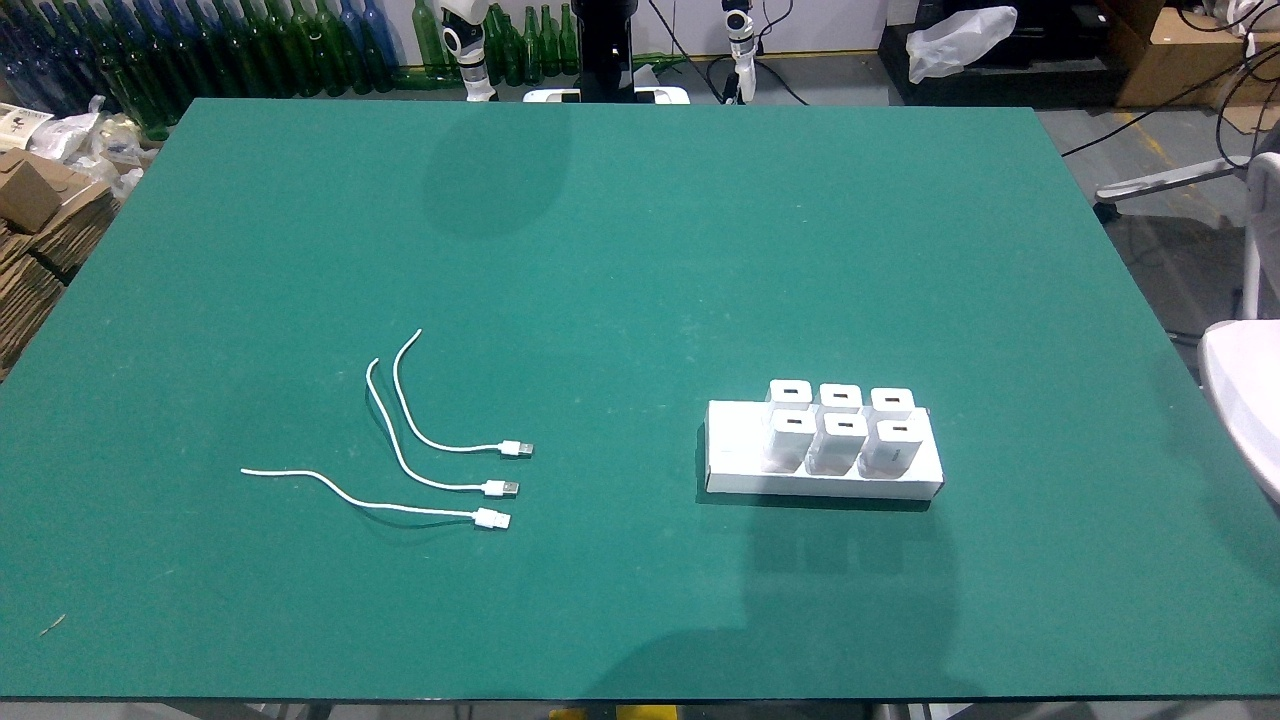usb_a_port: (781, 386, 800, 397), (786, 416, 805, 426), (831, 391, 849, 400), (891, 424, 908, 433), (884, 396, 901, 404), (838, 421, 853, 429)
